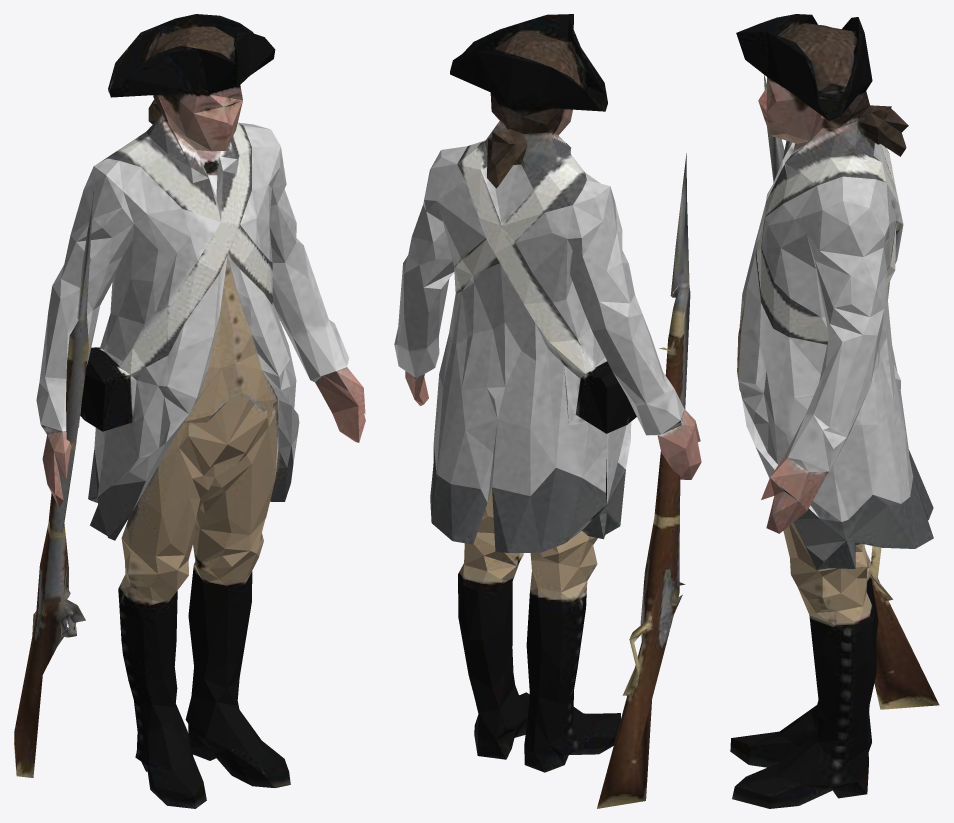
The model's file is musketman.glb.
3 renders of one model, left to right at view 1: azimuth 30°, elevation 25°; view 2: azimuth 150°, elevation 25°; view 3: azimuth 270°, elevation 25°, orthographic. The views are drawn at different scales.
Visible parts, largest first — view 1: musketman; view 2: musketman; view 3: musketman.
Part boxes in pixels (x1,y1,x2,y2): musketman: [14, 14, 365, 808]; musketman: [394, 14, 701, 808]; musketman: [730, 14, 939, 808].
Bounding box in the file's own units: 0.7706 × 1.8 × 0.4535.
3 materials, 3 textured.
